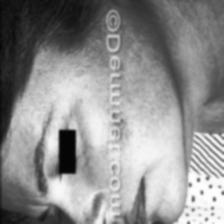Potentially Malignant Skin Tumors: (122, 116, 130, 152)
